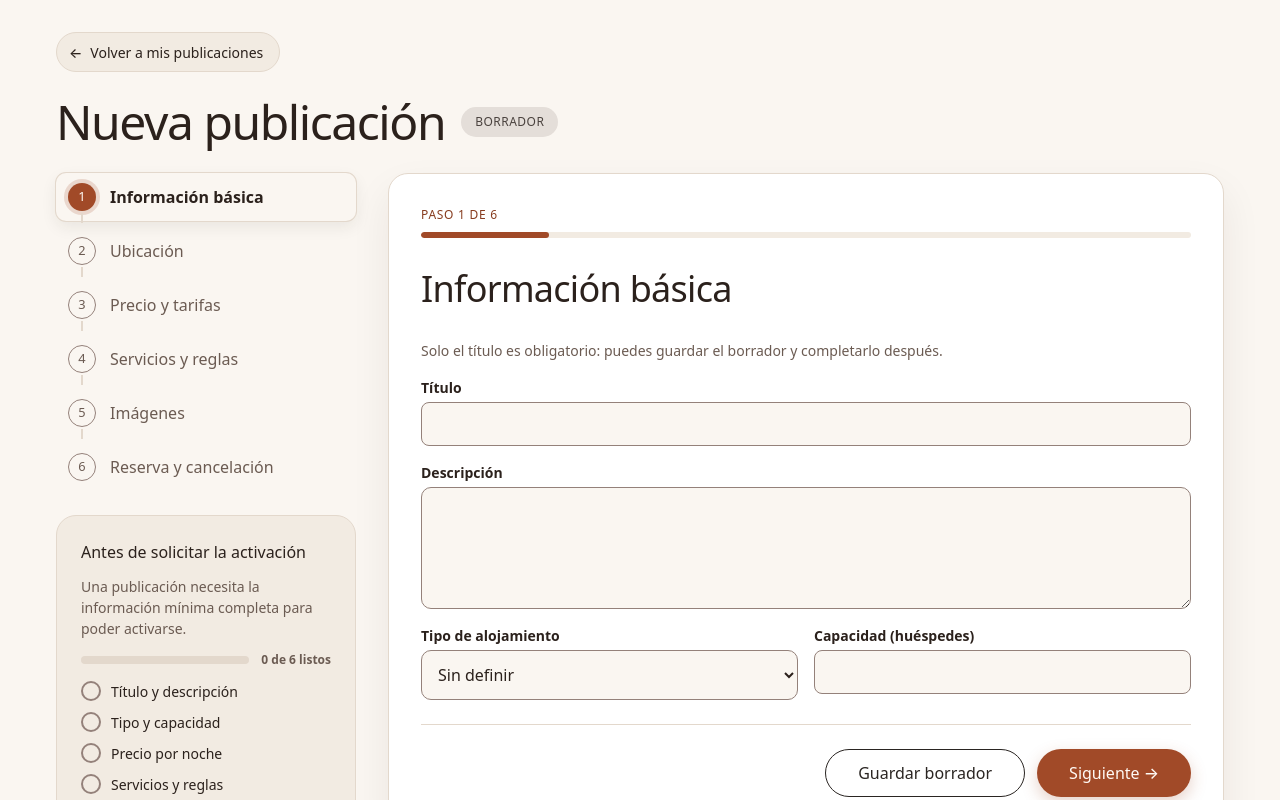
PublicacionFormPage › crea el borrador con los datos escritos y lleva a editarlo en el mismo paso
Type "  Casa en la playa " into the field labelled "Título".
click(806, 424); type("  Casa en la playa ")  # box [421,402,1191,446]
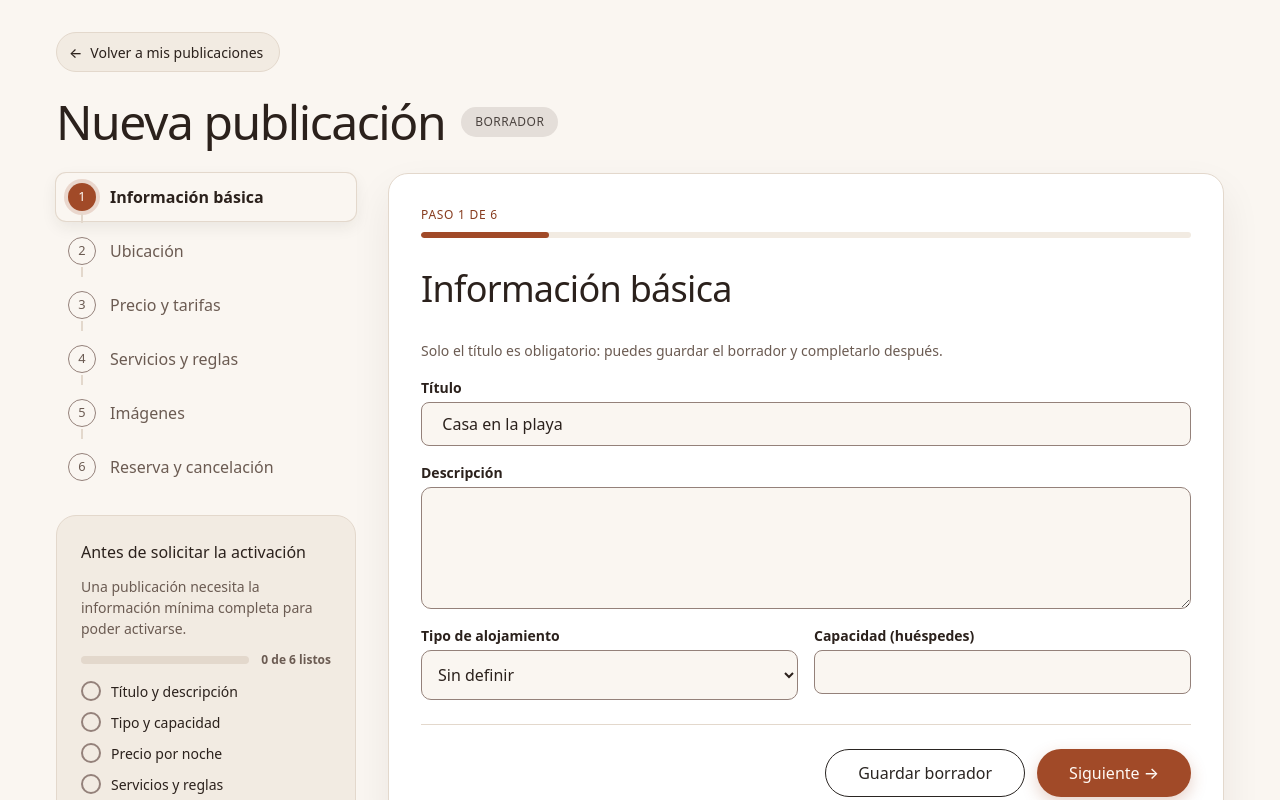
Select "Casa" in the dropdown labelled "Tipo de alojamiento" at (610, 675), box [421,650,798,700]
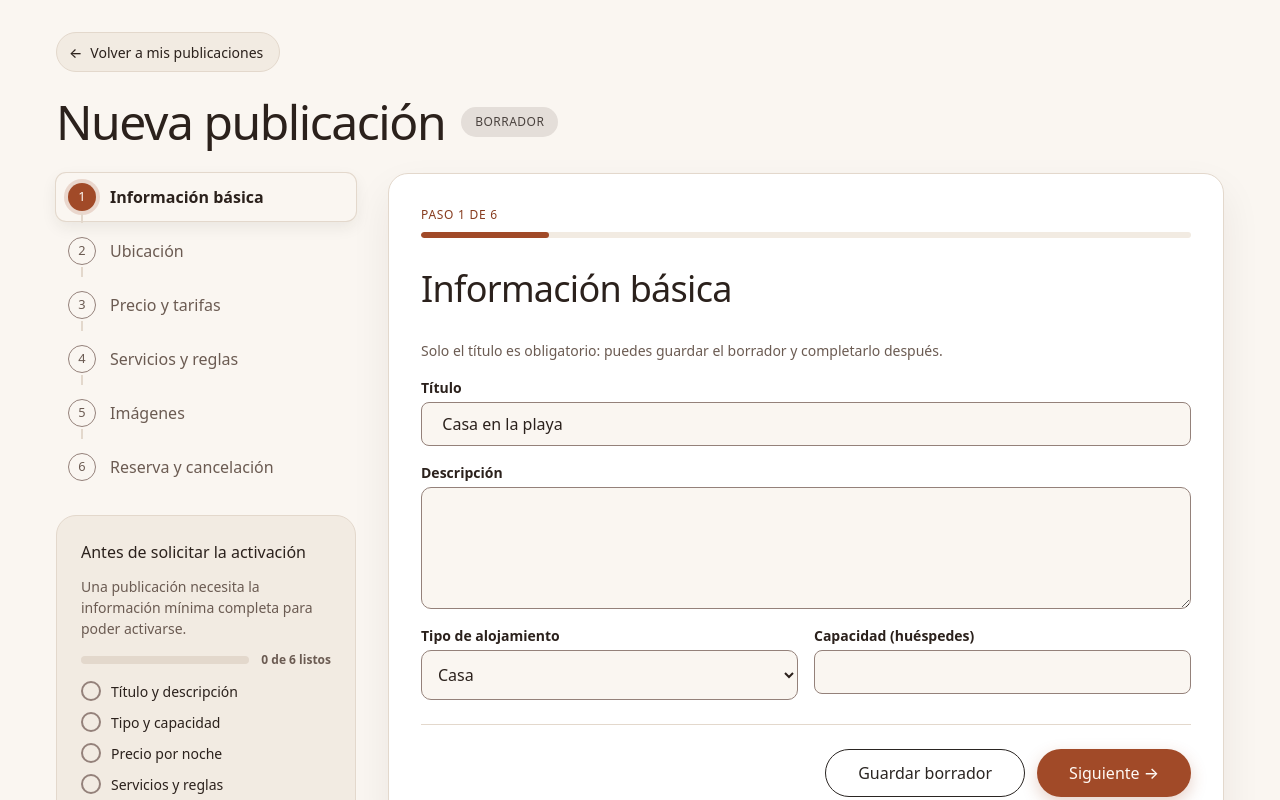
Type "4" into the field labelled "Capacidad (huéspedes)".
click(1002, 672); type("4")  # box [814,650,1191,694]
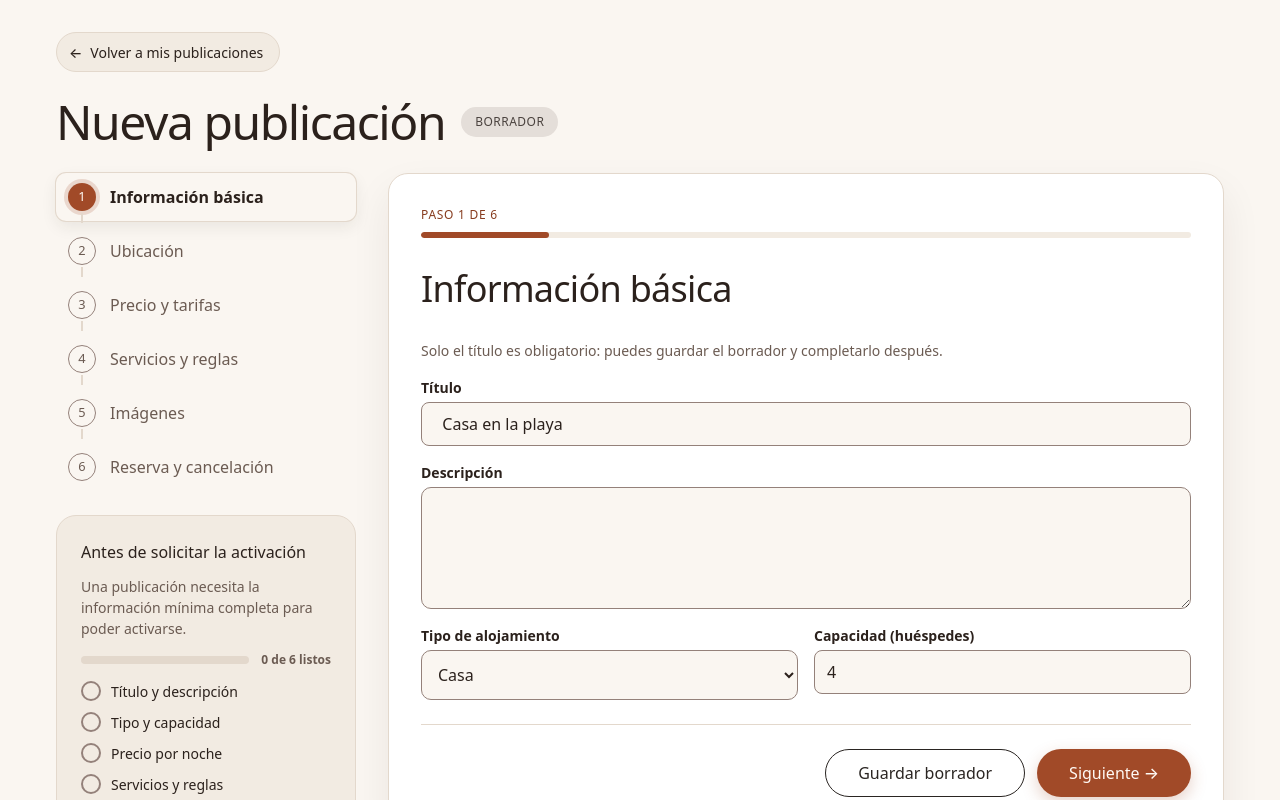
Click the button "Guardar borrador".
click(925, 773)  # box [825,749,1025,797]
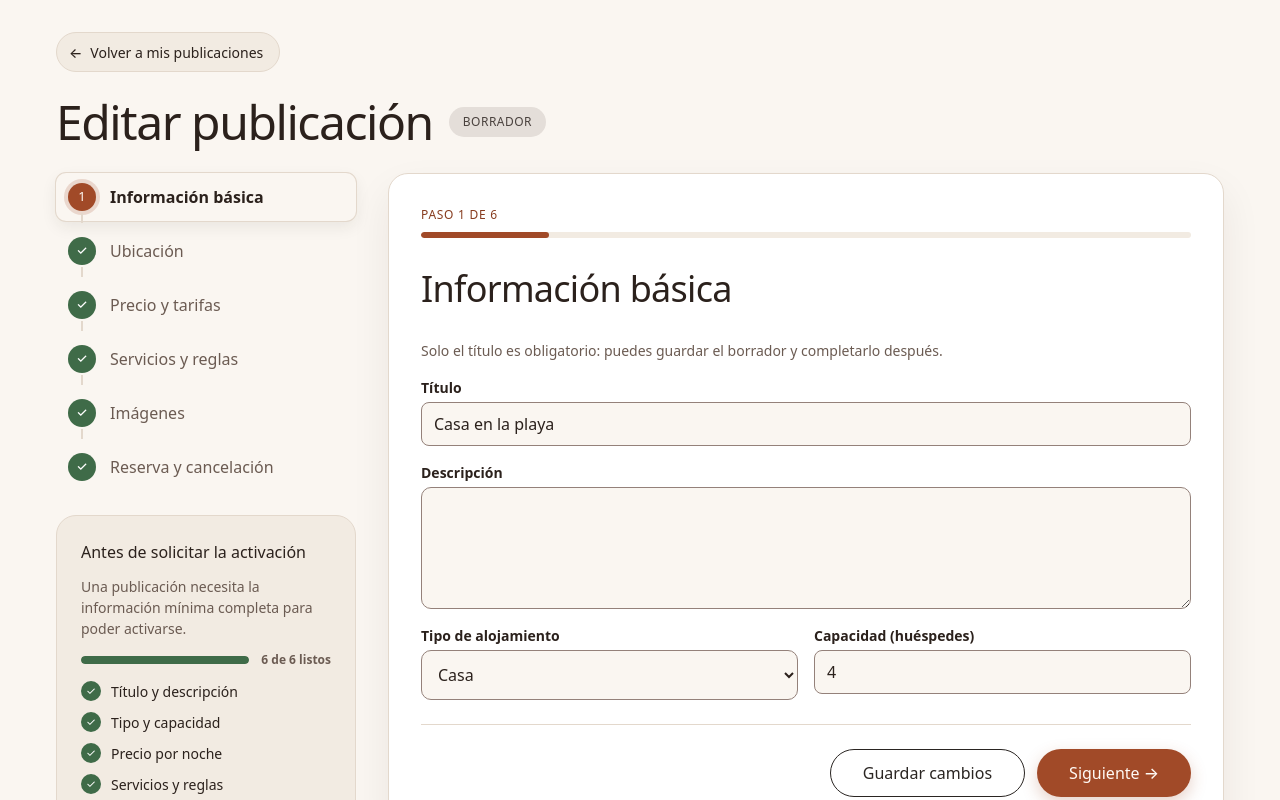
Expected: the text "PASO 1 DE 6" is shown, [421,206,498,223]
Expected: the heading "Editar publicación" is shown, [56,96,433,149]
